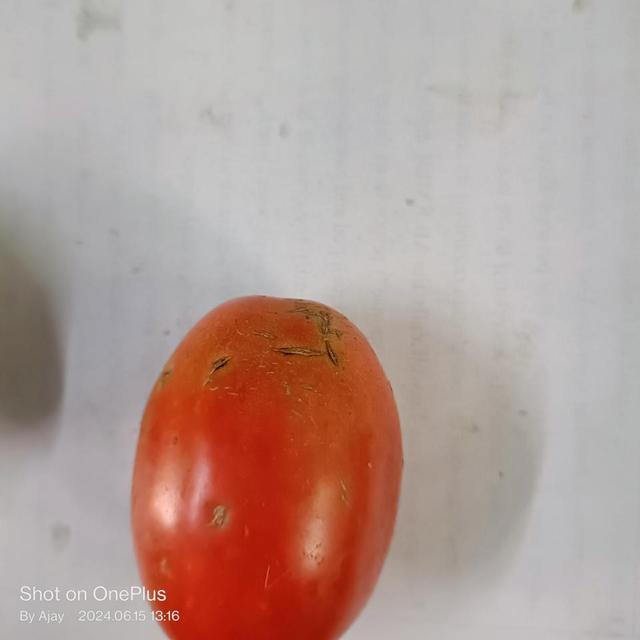Bacterial Spot Fruit: (14, 14, 204, 343)
